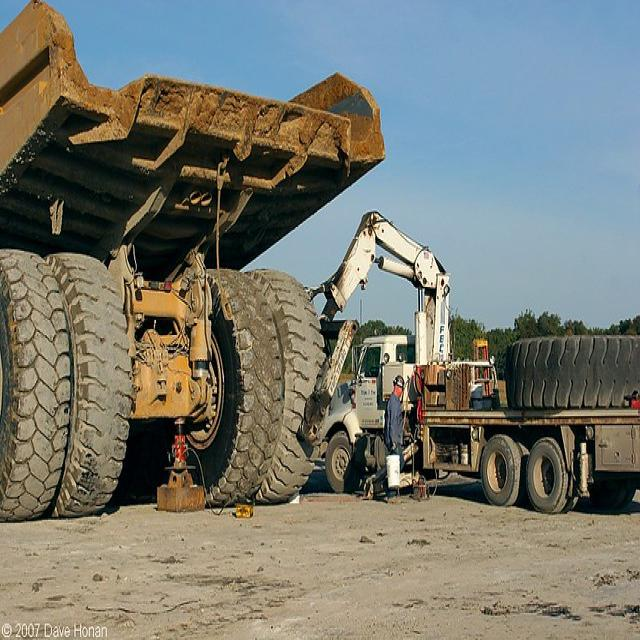dump_truck: (9, 9, 360, 505)
